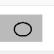no answer: (10, 19, 37, 41)
